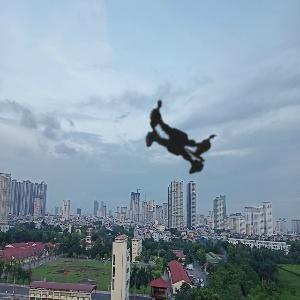drone: (69, 32, 293, 256)
